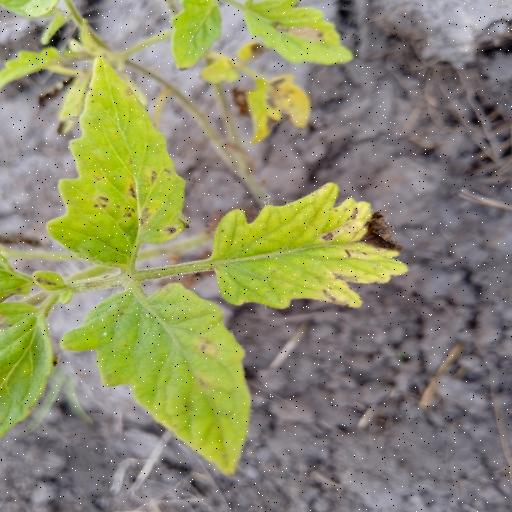Tomato_Brown_Spots: (60, 282, 256, 480), (44, 52, 188, 272), (207, 177, 408, 308)
